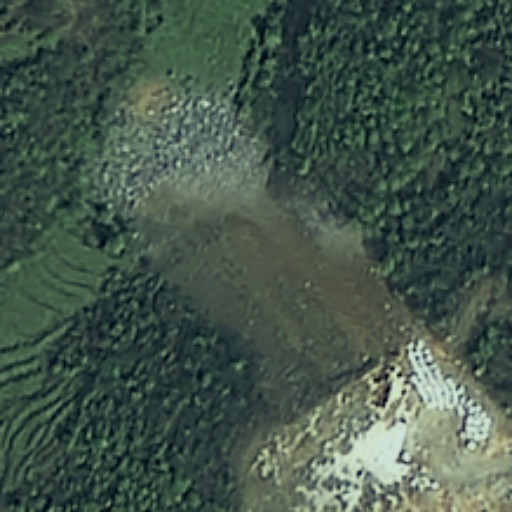landslide: (161, 220, 405, 388)
